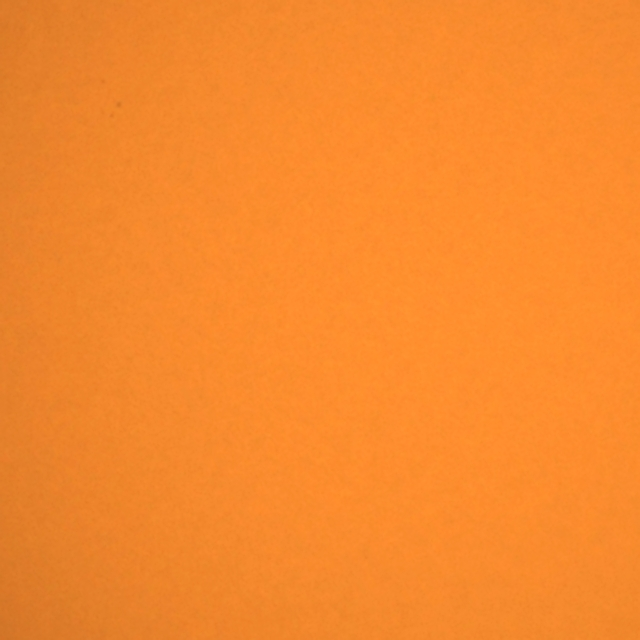sunspot: (108, 100, 124, 121)
